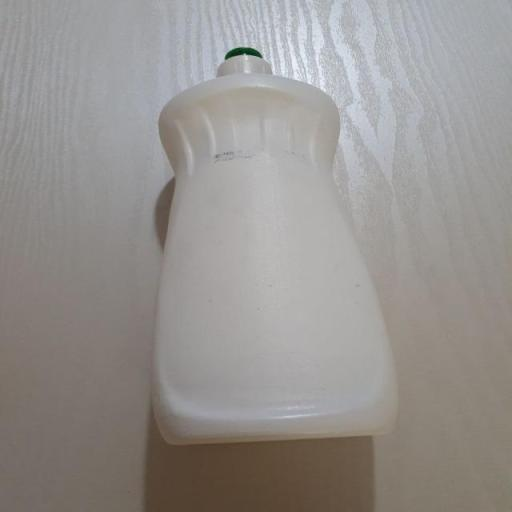plastic: (158, 47, 411, 452)
